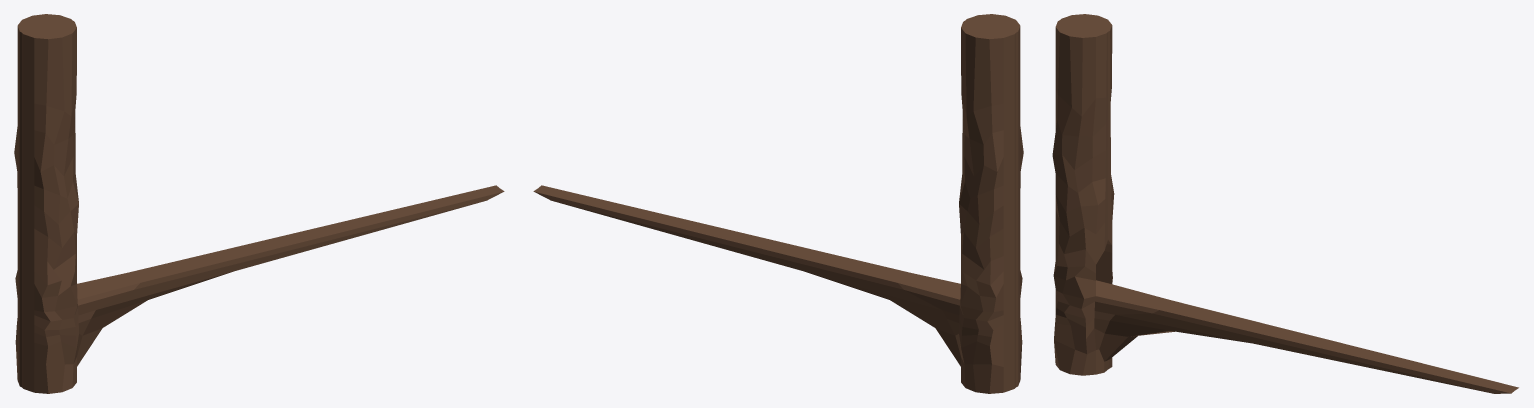
Rendered from TreePlatform.fbx.
3 renders of one model, left to right at view 1: azimuth 30°, elevation 25°; view 2: azimuth 150°, elevation 25°; view 3: azimuth 330°, elevation 25°, orthographic. The views are drawn at different scales.
Parts seen in each view (by area): view 1: Cylinder; view 2: Cylinder; view 3: Cylinder.
Boxes of the visible parts, left/top/right/bottom form: Cylinder: left=14, top=14, right=504, bottom=393; Cylinder: left=533, top=14, right=1023, bottom=393; Cylinder: left=1052, top=14, right=1518, bottom=393.
Size of the model in its own units: 1852 by 1311 by 220.
